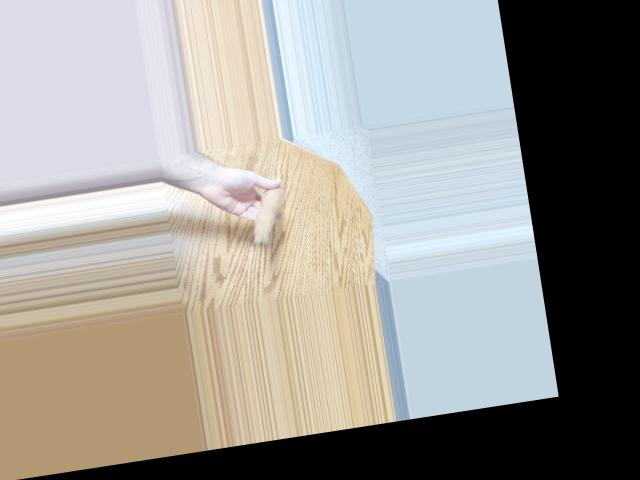sweet_potato: (242, 180, 291, 245)
